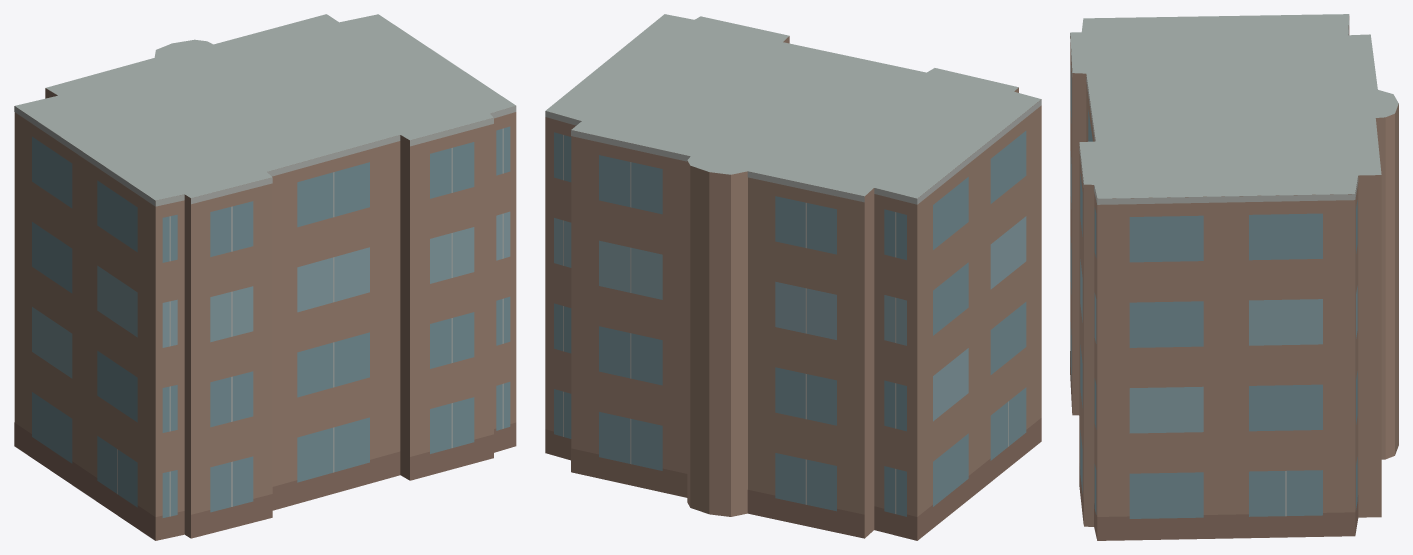
Rendered from survey-upis-32912752.glb.
3 renders of one model, left to right at view 1: azimuth 30°, elevation 25°; view 2: azimuth 150°, elevation 25°; view 3: azimuth 270°, elevation 25°, orthographic.
Parts seen in each view (by area): view 1: survey-upis-32912752.tmp; view 2: survey-upis-32912752.tmp; view 3: survey-upis-32912752.tmp.
Boxes of the visible parts, x1,y1,x2,y2 form: survey-upis-32912752.tmp: (14,14,516,540); survey-upis-32912752.tmp: (545,14,1041,540); survey-upis-32912752.tmp: (1070,14,1398,540).
Bounding box in the file's own units: 15.76 × 13.6 × 11.84.
